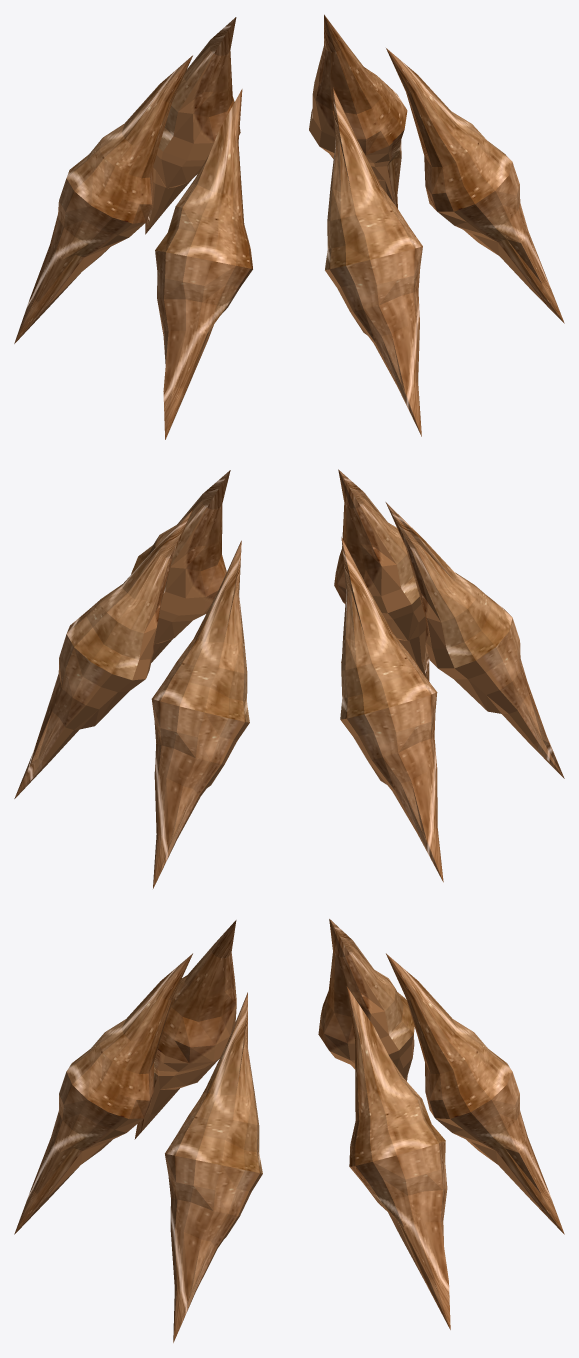
The model's file is arrow_feather_crystal.FBX.
The picture shows the model from 3 angles, top to bottom: view 1: azimuth 30°, elevation 25°; view 2: azimuth 150°, elevation 25°; view 3: azimuth 270°, elevation 25°; orthographic projection.
Visible parts, largest first — view 1: Object003, Object001, Object002; view 2: Object001, Object002, Object003; view 3: Object002, Object001, Object003.
Boxes of the visible parts, box(x1,y1,x2,y2) form: Object003: box(14, 48, 564, 343); Object001: box(155, 14, 407, 439); Object002: box(145, 17, 422, 436); Object001: box(14, 502, 564, 798); Object002: box(151, 469, 429, 888); Object003: box(131, 470, 443, 882); Object002: box(14, 953, 564, 1234); Object001: box(134, 920, 450, 1329); Object003: box(165, 919, 414, 1342).
Size of the model in its own units: 10.83 by 6.77 by 11.95.
